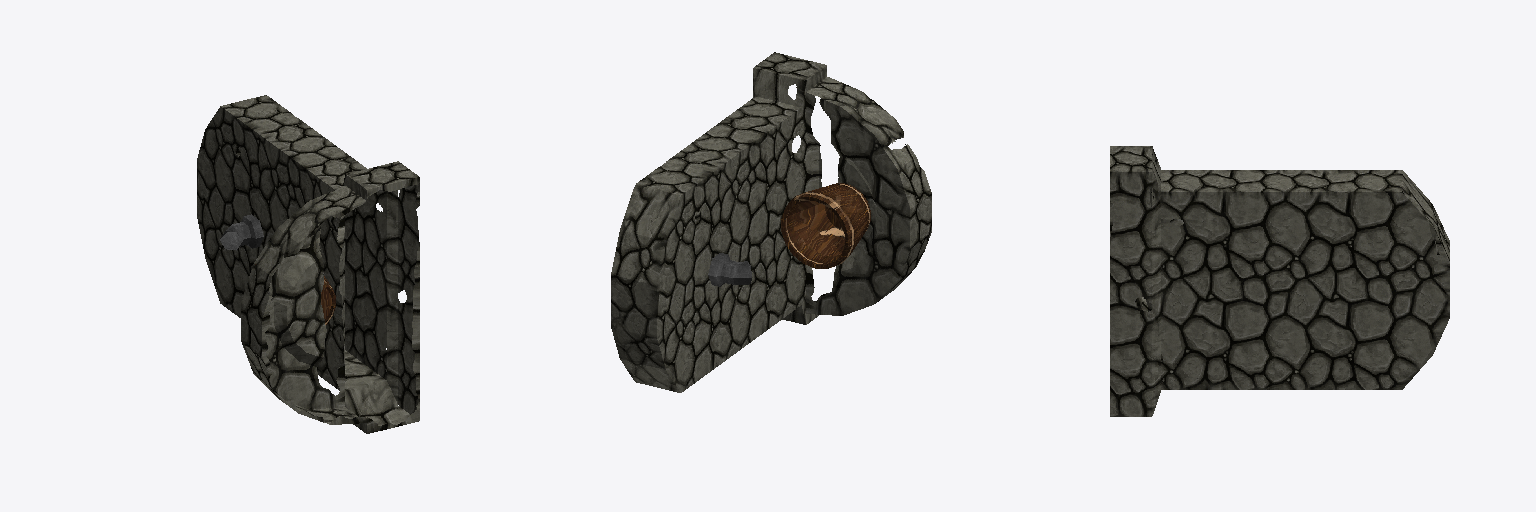
The picture shows the model from 3 angles: view 1: azimuth 30°, elevation 25°; view 2: azimuth 150°, elevation 25°; view 3: azimuth 270°, elevation 25°; orthographic projection.
Parts seen in each view (by area): view 1: fuente:polySurface10 fuente:polySurface13 fuente:polySurface1, fuente:polySurface10 fuente:polySurface15 fuente:polySurface1; view 2: fuente:polySurface10 fuente:polySurface13 fuente:polySurface1, fuente:polySurface10 fuente:polySurface14 fuente:set1 fuente:pol, fuente:polySurface10 fuente:polySurface15 fuente:polySurface1; view 3: fuente:polySurface10 fuente:polySurface13 fuente:polySurface1.
Part boxes in pixels (bbox=[...]): fuente:polySurface10 fuente:polySurface13 fuente:polySurface1: bbox=[197, 95, 419, 433]; fuente:polySurface10 fuente:polySurface15 fuente:polySurface1: bbox=[220, 214, 263, 250]; fuente:polySurface10 fuente:polySurface13 fuente:polySurface1: bbox=[611, 52, 931, 392]; fuente:polySurface10 fuente:polySurface14 fuente:set1 fuente:pol: bbox=[781, 183, 870, 268]; fuente:polySurface10 fuente:polySurface15 fuente:polySurface1: bbox=[708, 253, 751, 286]; fuente:polySurface10 fuente:polySurface13 fuente:polySurface1: bbox=[1110, 146, 1449, 416].
Size of the model in its own units: 1.02 by 1.52 by 1.91.
Materials: 1 (1 with a texture image).